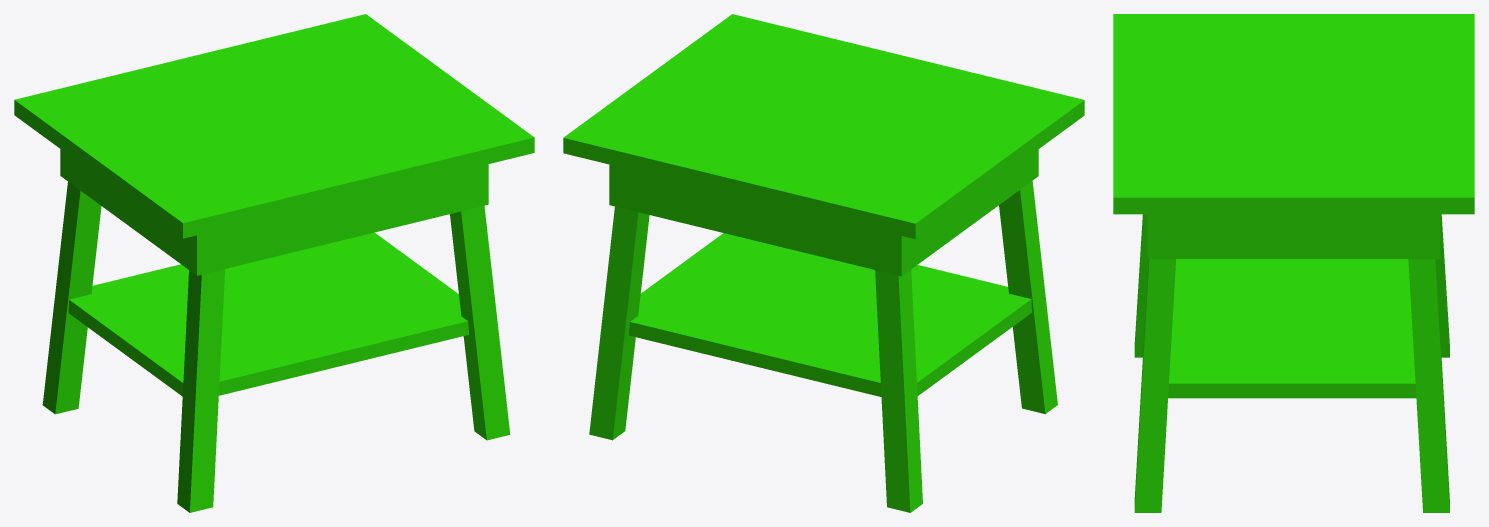
Rendered from Small_Table_06_Lod0.fbx.
3 renders of one model, left to right at view 1: azimuth 30°, elevation 25°; view 2: azimuth 150°, elevation 25°; view 3: azimuth 270°, elevation 25°, orthographic. The views are drawn at different scales.
Visible parts, largest first — view 1: Small_Table_06_Lod0; view 2: Small_Table_06_Lod0; view 3: Small_Table_06_Lod0.
Part boxes in pixels (x1,y1,x2,y2): Small_Table_06_Lod0: [14, 14, 534, 512]; Small_Table_06_Lod0: [563, 14, 1084, 512]; Small_Table_06_Lod0: [1113, 14, 1474, 512].
Size of the model in its own units: 32.18 by 26.34 by 26.75.
